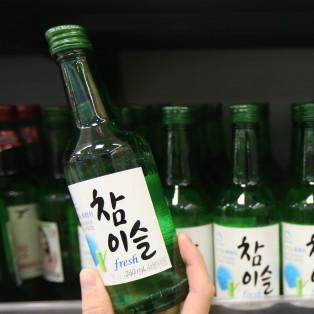soju: (4, 99, 314, 308), (33, 23, 196, 306)
